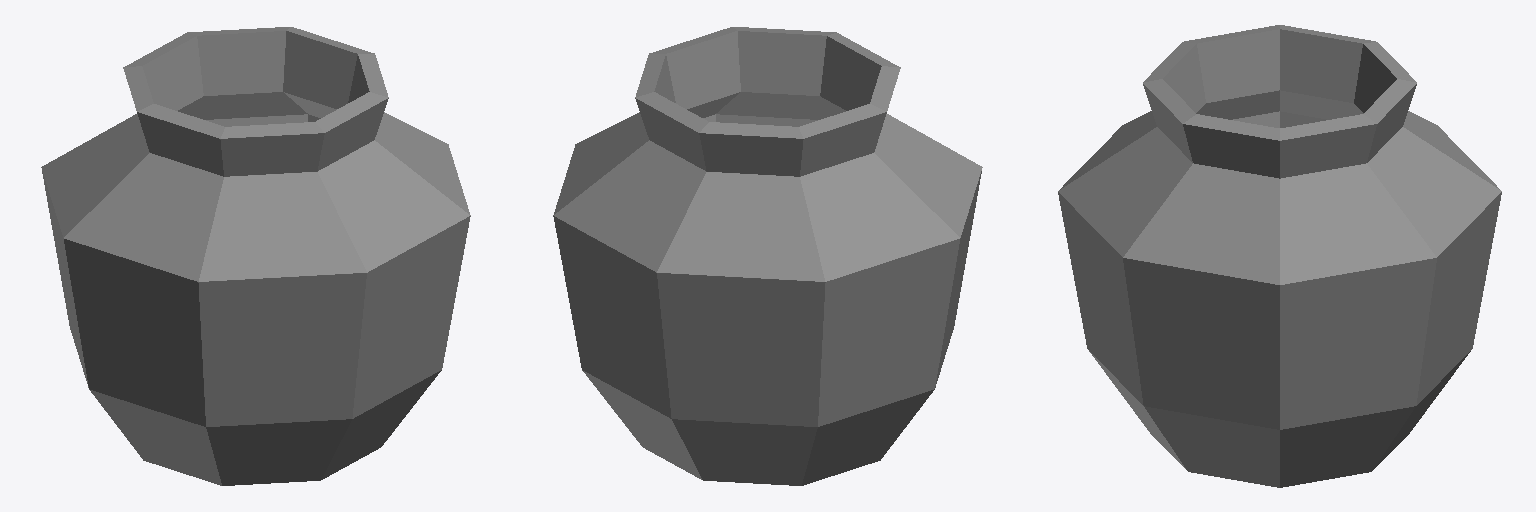
The model's file is pot_02.obj.
3 views of the same model, side by side, from view 1: azimuth 30°, elevation 25°; view 2: azimuth 150°, elevation 25°; view 3: azimuth 270°, elevation 25° (orthographic).
Bounding box in the file's own units: 0.4322 × 0.3801 × 0.4322.